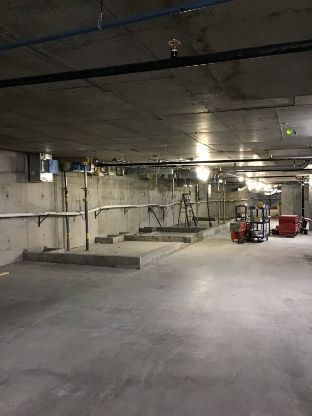Duct: (22, 147, 61, 185), (57, 154, 97, 176)
